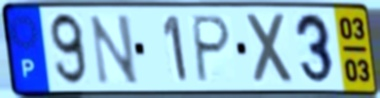1: (160, 13, 190, 85)
3: (293, 9, 339, 88)
9: (47, 11, 90, 90)
N: (87, 12, 141, 87)
P: (191, 13, 234, 86)
X: (243, 11, 297, 88)
